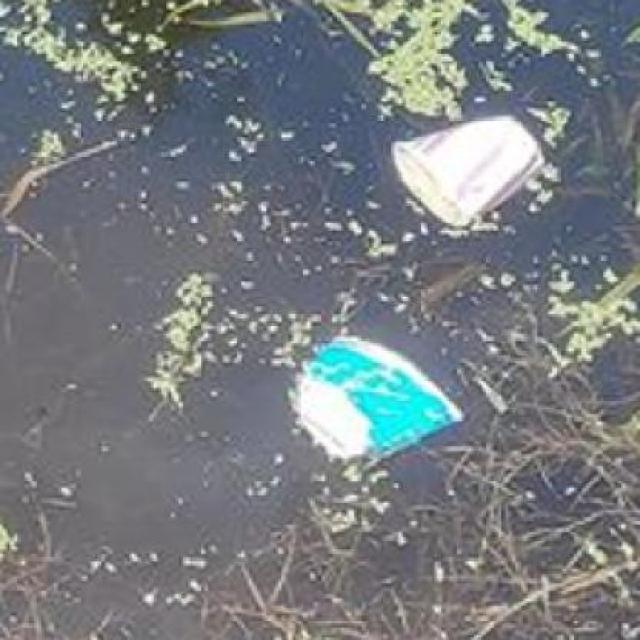Plastic cup: (287, 334, 465, 460), (392, 117, 542, 227)
